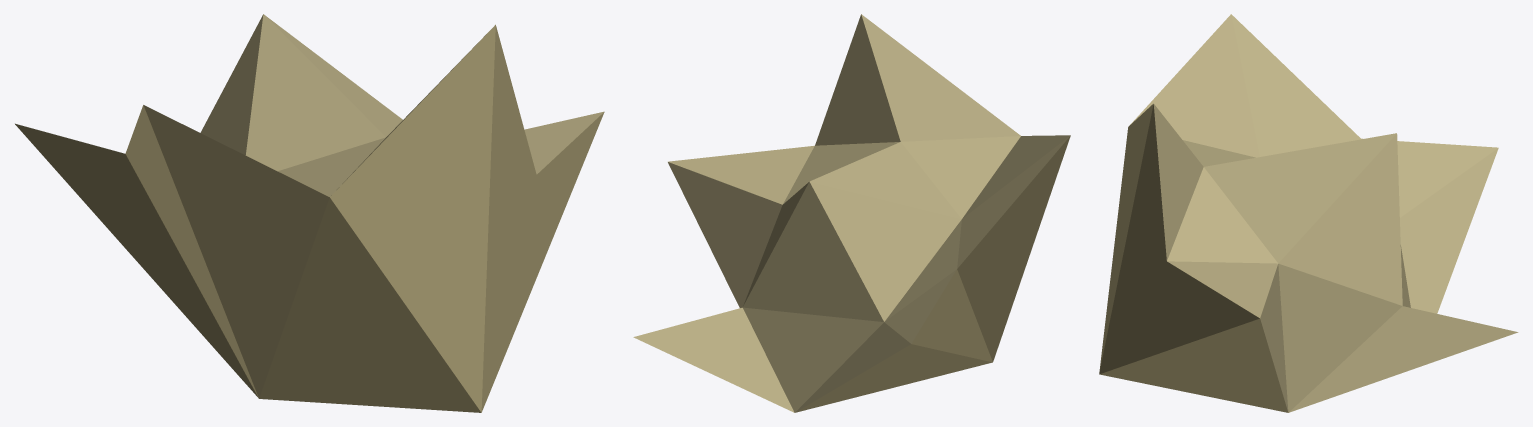
File: BushWinter1_Alt4.fbx
The picture shows the model from 3 angles, left to right: view 1: azimuth 30°, elevation 25°; view 2: azimuth 150°, elevation 25°; view 3: azimuth 270°, elevation 25°; orthographic projection. The views are drawn at different scales.
Parts seen in each view (by area): view 1: BushWinter1_Alt4; view 2: BushWinter1_Alt4; view 3: BushWinter1_Alt4.
Boxes of the visible parts, <box> form: BushWinter1_Alt4: <box>15,14,604,412</box>; BushWinter1_Alt4: <box>633,14,1070,412</box>; BushWinter1_Alt4: <box>1099,14,1518,412</box>.
Bounding box in the file's own units: 0.6828 × 0.4811 × 0.6299.
